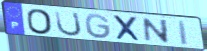G: (84, 13, 113, 40)
I: (177, 19, 190, 47)
N: (142, 18, 171, 45)
O: (25, 8, 55, 36)
U: (54, 10, 84, 38)
X: (110, 14, 144, 43)
